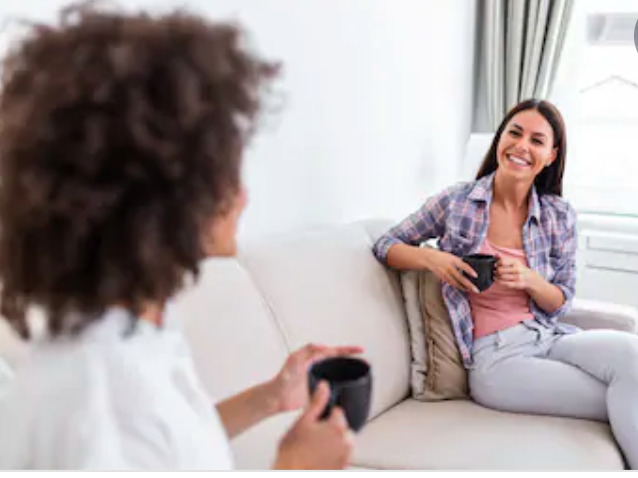Good: (4, 3, 638, 478)
